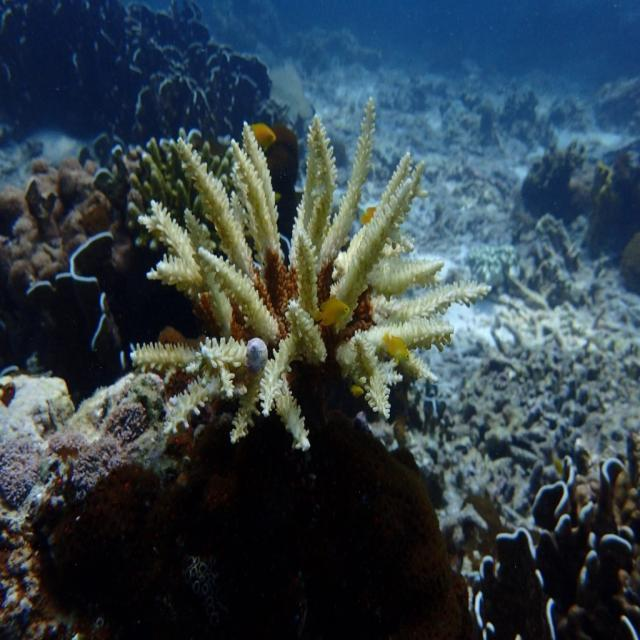Bleached: (137, 93, 481, 449), (498, 286, 640, 430), (5, 382, 62, 487)
Healthy: (71, 442, 456, 640), (1, 1, 289, 127), (480, 480, 640, 640), (2, 178, 140, 351), (531, 157, 640, 218)
